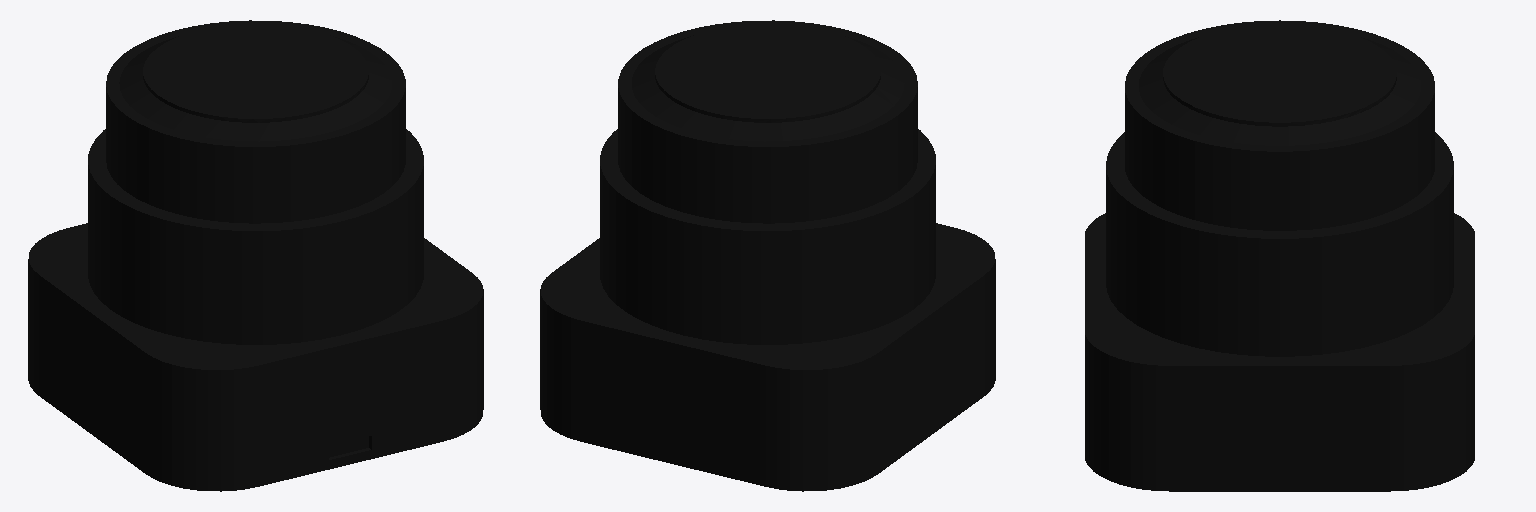
URDF robot description (robot):
<?xml version="1.0" ?>
<!-- =================================================================================== -->
<!-- |    This document was autogenerated by xacro from src/depth_d435/urdf/sensors_diffbot.xacro | -->
<!-- |    EDITING THIS FILE BY HAND IS NOT RECOMMENDED                                 | -->
<!-- =================================================================================== -->
<robot name="robot">
  <!-- Custom color (for Ign and RViz) -->
  <material name="gray">
    <color rgba="0.4 0.4 0.4 1.0"/>
  </material>
  <link name="r1/base_footprint"/>
  <joint name="r1/base_joint" type="fixed">
    <parent link="r1/base_footprint"/>
    <child link="r1/base_link"/>
    <origin rpy="0 0 0" xyz="0 0 0.01"/>
  </joint>
  <link name="r1/base_link">
    <visual>
      <origin rpy="0 0 3.14159265" xyz="-0.033 0.0 0.04"/>
      <geometry>
        <mesh filename="package://depth_d435/meshes/base_plate.stl" scale="1 1 1"/>
      </geometry>
      <material name="base_color">
        <!-- Color in IGN and Rviz2 (inside visual tag) -->
        <color rgba="0.0 0.0 1.0 0.95"/>
      </material>
    </visual>
    <collision>
      <origin rpy="0 0 0" xyz="-0.033 0 0.04"/>
      <geometry>
        <box size="0.2 0.1 0.01"/>
      </geometry>
    </collision>
    <!-- Collision tag added to stabilize the robot -->
    <collision>
      <origin rpy="0 0 0" xyz="0.06 0 0.002"/>
      <geometry>
        <sphere radius="0.01"/>
      </geometry>
    </collision>
    <inertial>
      <origin rpy="0 0 0" xyz="0 0 0.060000000000000005"/>
      <mass value="10"/>
      <inertia ixx="0.333333" ixy="0.0" ixz="0.0" iyy="0.333333" iyz="0.0" izz="0.6"/>
    </inertial>
  </link>
  <!-- Wheels definition (joints and links) -->
  <joint name="r1/wheel_left_joint" type="continuous">
    <parent link="r1/base_link"/>
    <child link="r1/wheel_left_link"/>
    <origin rpy="-1.570796325 0 0" xyz="0 0.065 0.025"/>
    <axis xyz="0 0 1"/>
    <limit effort="10" velocity="10"/>
  </joint>
  <link name="r1/wheel_left_link">
    <visual>
      <origin rpy="0 0 0" xyz="0 0 0.015"/>
      <geometry>
        <mesh filename="package://depth_d435/meshes/wheel_ring.stl" scale="1 1 1"/>
      </geometry>
      <material name="gray"/>
      <!-- Color in Rviz2 (inside visual tag) -->
    </visual>
    <collision>
      <origin rpy="0 0 0" xyz="0 0 0"/>
      <geometry>
        <cylinder length="0.024" radius="0.035"/>
      </geometry>
    </collision>
    <inertial>
      <origin xyz="0 0 0"/>
      <mass value="5"/>
      <inertia ixx="0.0135417" ixy="0.0" ixz="0.0" iyy="0.0135417" iyz="0.0" izz="0.025"/>
    </inertial>
  </link>
  <joint name="r1/wheel_right_joint" type="continuous">
    <parent link="r1/base_link"/>
    <child link="r1/wheel_right_link"/>
    <origin rpy="-1.570796325 0 0" xyz="0 -0.065 0.025"/>
    <axis xyz="0 0 1"/>
  </joint>
  <link name="r1/wheel_right_link">
    <visual>
      <origin rpy="3.14159265 0 0" xyz="0 0 -0.015"/>
      <!-- -z and r=PI for the other wheel -->
      <geometry>
        <mesh filename="package://depth_d435/meshes/wheel_ring.stl" scale="1 1 1"/>
      </geometry>
      <material name="gray"/>
    </visual>
    <collision>
      <origin rpy="0 0 0" xyz="0 0 0"/>
      <geometry>
        <cylinder length="0.024" radius="0.035"/>
      </geometry>
    </collision>
    <inertial>
      <origin xyz="0 0 0"/>
      <mass value="5"/>
      <inertia ixx="0.0135417" ixy="0.0" ixz="0.0" iyy="0.0135417" iyz="0.0" izz="0.025"/>
    </inertial>
  </link>
  <!-- Caster wheel definition (joints and links) -->
  <joint name="r1/caster_base_joint" type="continuous">
    <origin rpy="0 0 3.14159265" xyz="-0.104 0 0.015"/>
    <parent link="r1/base_link"/>
    <child link="r1/caster_base_link"/>
    <axis xyz="0 0 1"/>
  </joint>
  <link name="r1/caster_base_link">
    <visual>
      <origin rpy="-3.14159265 0 0" xyz="0 0 0.015"/>
      <geometry>
        <mesh filename="package://depth_d435/meshes/base_caster.stl"/>
      </geometry>
      <material name="base_color"/>
    </visual>
    <inertial>
      <!-- inertia tag must be set for this link -->
      <origin rpy="0 0 0" xyz="0 0 0"/>
      <mass value="0.5"/>
      <inertia ixx="0.00004" ixy="0" ixz="0" iyy="0.00004" iyz="0" izz="0.00001"/>
    </inertial>
  </link>
  <joint name="r1/caster_wheel_joint" type="continuous">
    <origin rpy="0 -1.570796325 1.570796325" xyz="0.015014 -0.00012272 -0.01"/>
    <parent link="r1/caster_base_link"/>
    <child link="r1/caster_wheel_link"/>
    <axis xyz="0 0 1"/>
  </joint>
  <link name="r1/caster_wheel_link">
    <visual>
      <origin rpy="0 0 0" xyz="0 0 0"/>
      <geometry>
        <mesh filename="package://depth_d435/meshes/caster_wheel.stl"/>
      </geometry>
      <material name="gray"/>
    </visual>
    <collision>
      <origin rpy="0 0 0" xyz="0 0 0"/>
      <geometry>
        <cylinder length="0.01" radius="0.015"/>
      </geometry>
    </collision>
    <inertial>
      <origin rpy="0 0 0" xyz="6.93889390390723E-18 -2.62037475051713E-11 -2.77710070911708E-09"/>
      <mass value="0.08"/>
      <inertia ixx="0.0004" ixy="0" ixz="0" iyy="0.0004" iyz="0" izz="0.00001"/>
    </inertial>
  </link>
  <!-- ************************ SENSORS DEFINITION ***************************** -->
  <!-- IMU -->
  <gazebo reference="r1/base_link">
    <sensor name="imu_sensor" type="imu">
      <ignition_frame_id>r1/base_link</ignition_frame_id>
      <always_on>1</always_on>
      <update_rate>50</update_rate>
      <visualize>false</visualize>
      <topic>r1/imu</topic>
      <imu>
        <enable_orientation>0</enable_orientation>
        <angular_velocity>
          <x>
            <noise type="gaussian">
              <mean>0</mean>
              <stddev>0.009</stddev>
              <bias_mean>0.00075</bias_mean>
              <bias_stddev>0.005</bias_stddev>
              <dynamic_bias_stddev>0.00002</dynamic_bias_stddev>
              <dynamic_bias_correlation_time>400.0</dynamic_bias_correlation_time>
              <precision>0.00025</precision>
            </noise>
          </x>
          <y>
            <noise type="gaussian">
              <mean>0</mean>
              <stddev>0.009</stddev>
              <bias_mean>0.00075</bias_mean>
              <bias_stddev>0.005</bias_stddev>
              <dynamic_bias_stddev>0.00002</dynamic_bias_stddev>
              <dynamic_bias_correlation_time>400.0</dynamic_bias_correlation_time>
              <precision>0.00025</precision>
            </noise>
          </y>
          <z>
            <noise type="gaussian">
              <mean>0</mean>
              <stddev>0.009</stddev>
              <bias_mean>0.00075</bias_mean>
              <bias_stddev>0.005</bias_stddev>
              <dynamic_bias_stddev>0.00002</dynamic_bias_stddev>
              <dynamic_bias_correlation_time>400.0</dynamic_bias_correlation_time>
              <precision>0.00025</precision>
            </noise>
          </z>
        </angular_velocity>
        <linear_acceleration>
          <x>
            <noise type="gaussian">
              <mean>0</mean>
              <stddev>0.021</stddev>
              <bias_mean>0.05</bias_mean>
              <bias_stddev>0.0075</bias_stddev>
              <dynamic_bias_stddev>0.000375</dynamic_bias_stddev>
              <dynamic_bias_correlation_time>175.0</dynamic_bias_correlation_time>
              <precision>0.005</precision>
            </noise>
          </x>
          <y>
            <noise type="gaussian">
              <mean>0</mean>
              <stddev>0.021</stddev>
              <bias_mean>0.05</bias_mean>
              <bias_stddev>0.0075</bias_stddev>
              <dynamic_bias_stddev>0.000375</dynamic_bias_stddev>
              <dynamic_bias_correlation_time>175.0</dynamic_bias_correlation_time>
              <precision>0.005</precision>
            </noise>
          </y>
          <z>
            <noise type="gaussian">
              <mean>0</mean>
              <stddev>0.021</stddev>
              <bias_mean>0.05</bias_mean>
              <bias_stddev>0.0075</bias_stddev>
              <dynamic_bias_stddev>0.000375</dynamic_bias_stddev>
              <dynamic_bias_correlation_time>175.0</dynamic_bias_correlation_time>
              <precision>0.005</precision>
            </noise>
          </z>
        </linear_acceleration>
      </imu>
    </sensor>
  </gazebo>
  <!-- LIDAR -->
  <joint name="r1/lidar_joint" type="fixed">
    <parent link="r1/base_link"/>
    <child link="r1/lidar_link"/>
    <origin rpy="0 0 0" xyz="-0.04 0 0.07"/>
  </joint>
  <link name="r1/lidar_link">
    <visual>
      <origin rpy="0 0 0" xyz="-0.0275 -0.0275 -0.02"/>
      <geometry>
        <mesh filename="package://depth_d435/meshes/Lidar_pacecat.stl" scale="0.001 0.001 0.001"/>
      </geometry>
      <material name="black">
        <color rgba="0.1 0.1 0.1 1.0"/>
      </material>
    </visual>
  </link>
  <gazebo reference="r1/lidar_link">
    <sensor name="gpu_lidar" type="gpu_lidar">
      &quot;
      
      <ignition_frame_id>r1/lidar_link</ignition_frame_id>
      <update_rate>10</update_rate>
      <ray>
        <scan>
          <horizontal>
            <samples>360</samples>
            <resolution>1</resolution>
            <min_angle>-3.14159265</min_angle>
            <max_angle>3.14159265</max_angle>
          </horizontal>
          <vertical>
            <samples>16</samples>
            <resolution>1</resolution>
            <min_angle>-0.261799</min_angle>
            <max_angle>0.261799</max_angle>
          </vertical>
        </scan>
        <range>
          <min>0.1</min>
          <max>20.0</max>
          <resolution>0.017453</resolution>
        </range>
        <noise>
          <type>gaussian</type>
          <mean>0.0</mean>
          <stddev>0.01</stddev>
        </noise>
      </ray>
      <alwaysOn>1</alwaysOn>
      <visualize>false</visualize>
      <topic>r1/lidar</topic>
    </sensor>
  </gazebo>
  <!-- MONOCULAR CAMERA -->
  <joint name="r1/camera_joint" type="fixed">
    <origin rpy="0 0 3.14159265" xyz="-0.1 0 0.06"/>
    <parent link="r1/base_link"/>
    <child link="r1/camera_frame"/>
  </joint>
  <link name="r1/camera_frame">
    <visual>
      <origin rpy="0 0 0" xyz="0 0 0"/>
      <geometry>
        <mesh filename="package://depth_d435/meshes/d435.dae" scale="1.0 1.0 1.0"/>
      </geometry>
      <material name="white">
        <color rgba="0.9 0.9 0.9 1.0"/>
      </material>
    </visual>
  </link>
  <gazebo reference="r1/camera_frame">
    <sensor name="camera" type="camera">
      <ignition_frame_id>r1/camera_frame</ignition_frame_id>
      <optical_frame_id>r1/camera_frame</optical_frame_id>
      <camera>
        <horizontal_fov>1.085595</horizontal_fov>
        <image>
          <width>1920</width>
          <height>1080</height>
          <format>RGB_INT8</format>
        </image>
        <camera_info_topic>r1/camera/camera_info</camera_info_topic>
        <clip>
          <near>0.1</near>
          <far>10</far>
        </clip>
        <distortion>
          <k1>0.096559</k1>
          <k2>-0.237840</k2>
          <k3>0.113659</k3>
          <p1>0.000396</p1>
          <p2>0.000247</p2>
          <center>0.5 0.5</center>
        </distortion>
      </camera>
      <always_on>1</always_on>
      <update_rate>10</update_rate>
      <visualize>false</visualize>
      <topic>r1/camera/image_raw</topic>
      <enable_metrics>true</enable_metrics>
    </sensor>
  </gazebo>
  <!-- RGBD CAMERA -->
  <joint name="r1/rgbd_camera_joint" type="fixed">
    <origin rpy="0 0 0" xyz="0.05 0 0.06"/>
    <parent link="r1/base_link"/>
    <child link="r1/rgbd_camera_frame"/>
  </joint>
  <link name="r1/rgbd_camera_frame">
    <visual>
      <origin rpy="0 0 0" xyz="0 0 0"/>
      <geometry>
        <mesh filename="package://depth_d435/meshes/d435.dae" scale="1.0 1.0 1.0"/>
      </geometry>
      <material name="white">
        <color rgba="0.9 0.9 0.9 1.0"/>
      </material>
    </visual>
  </link>
  <gazebo reference="r1/rgbd_camera_frame">
    <sensor name="rgbd_camera" type="rgbd_camera">
      <ignition_frame_id>r1/rgbd_camera_frame</ignition_frame_id>
      <camera name="rgbd_camera_frame">
        <horizontal_fov>1.3962634</horizontal_fov>
        <lens>
          <intrinsics>
            <fx>277.1</fx>
            <fy>277.1</fy>
            <cx>160.5</cx>
            <cy>120.5</cy>
            <s>0</s>
          </intrinsics>
        </lens>
        <distortion>
          <k1>0.104207</k1>
          <k2>-0.255558</k2>
          <k3>0.128694</k3>
          <p1>0.000512</p1>
          <p2>0.000319</p2>
          <center>0.5 0.5</center>
        </distortion>
        <image>
          <width>1280</width>
          <height>720</height>
          <format>L8</format>
        </image>
        <clip>
          <near>0.01</near>
          <far>300</far>
        </clip>
        <depth_camera>
          <clip>
            <near>0.1</near>
            <far>10</far>
          </clip>
        </depth_camera>
        <noise>
          <type>gaussian</type>
          <mean>0</mean>
          <stddev>0.003</stddev>
        </noise>
      </camera>
      <always_on>1</always_on>
      <update_rate>10</update_rate>
      <visualize>0</visualize>
      <topic>r1/depth_camera</topic>
    </sensor>
  </gazebo>
  <gazebo>
    <plugin filename="ignition-gazebo-diff-drive-system" name="ignition::gazebo::systems::DiffDrive">
      <!-- By default, cmd_vel topic is used -->
      <left_joint>r1/wheel_left_joint</left_joint>
      <right_joint>r1/wheel_right_joint</right_joint>
      <wheel_separation>0.13</wheel_separation>
      <wheel_radius>0.035</wheel_radius>
      <max_linear_acceleration>0.5</max_linear_acceleration>
      <min_linear_acceleration>-0.5</min_linear_acceleration>
      <max_angular_acceleration>1</max_angular_acceleration>
      <min_angular_acceleration>-1</min_angular_acceleration>
      <max_linear_velocity>0.5</max_linear_velocity>
      <min_linear_velocity>-0.3</min_linear_velocity>
      <max_angular_velocity>1</max_angular_velocity>
      <min_angular_velocity>-1</min_angular_velocity>
      <odom_topic>encoder</odom_topic>
      <!-- THIS TAG IS REQUIRED TO USE THE WORLD PLUING -->
    </plugin>
    <!-- World odometry plugin (by default, odometry topic is used) -->
    <plugin filename="ignition-gazebo-odometry-publisher-system" name="ignition::gazebo::systems::OdometryPublisher">
      <dimensions>3</dimensions>
      <robot_base_frame>base_footprint</robot_base_frame>
      <publish_link_pose>true</publish_link_pose>
    </plugin>
    <plugin filename="gz-sim-joint-state-publisher-system" name="gz::sim::systems::JointStatePublisher">
    </plugin>
    <!-- Linear battery plugin -->
    <plugin filename="libignition-gazebo-linearbatteryplugin-system.so" name="ignition::gazebo::systems::LinearBatteryPlugin">
      <battery_name>linear_battery</battery_name>
      <voltage>12.694</voltage>
      <open_circuit_voltage_constant_coef>12.694</open_circuit_voltage_constant_coef>
      <open_circuit_voltage_linear_coef>-3.1424</open_circuit_voltage_linear_coef>
      <initial_charge>78.4</initial_charge>
      <capacity>78.4</capacity>
      <resistance>0.061523</resistance>
      <smooth_current_tau>1.9499</smooth_current_tau>
      <power_load>6.6</power_load>
      <start_on_motion>true</start_on_motion>
    </plugin>
  </gazebo>
</robot>

--- What the picture shows (computed from the rendered views, not written in the file) ---
Views: 3 orthographic renders of the robot side by side, from view 1: azimuth 30°, elevation 25°; view 2: azimuth 150°, elevation 25°; view 3: azimuth 270°, elevation 25°.
Model robot with 9 links and 8 joints (4 continuous, 4 fixed), rooted at r1/base_footprint, posed every joint at zero.
Links seen in each view (by area): view 1: r1/lidar_link; view 2: r1/lidar_link; view 3: r1/lidar_link.
Link boxes in pixels (left/top/right/bottom): r1/lidar_link: left=28, top=20, right=483, bottom=491; r1/lidar_link: left=540, top=20, right=995, bottom=491; r1/lidar_link: left=1085, top=20, right=1474, bottom=491.
Bounding box of the posed robot: 0.055 × 0.055 × 0.0521 m (x, y, z).
1 mesh visuals loaded from 6 distinct referenced files (1 binary STL); not drawn: 7 (reference not matched to a file when rendering).